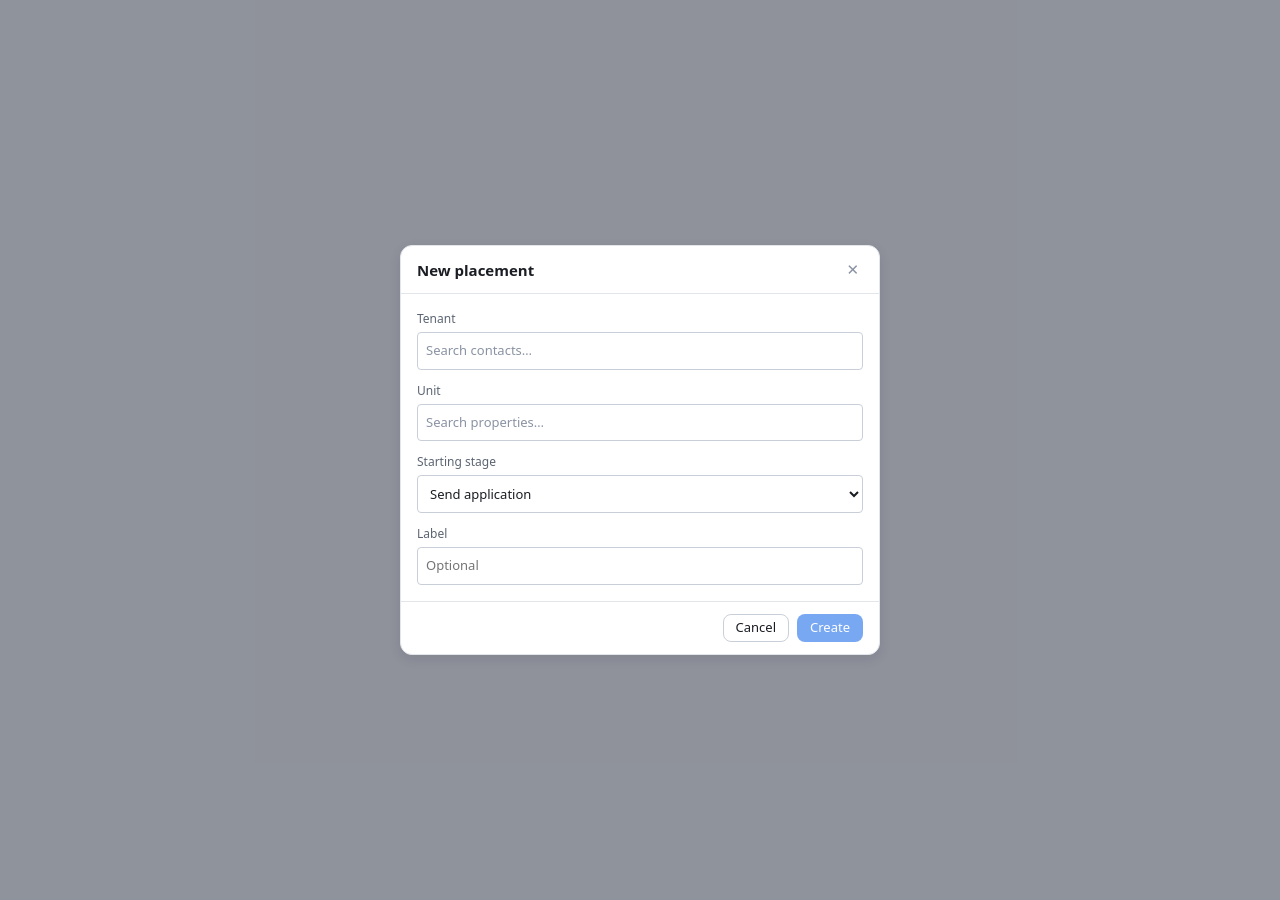
Test: PlacementCreateForm › Create is disabled until both a tenant and a unit are chosen
This screenshot has width=1280, height=900.
Check: the button "Create" is disabled, box x1=797 y1=614 x2=863 y2=642
In the dropdown named "Tenant": (640, 351) x1=417 y1=332 x2=863 y2=370, type "Tasha"
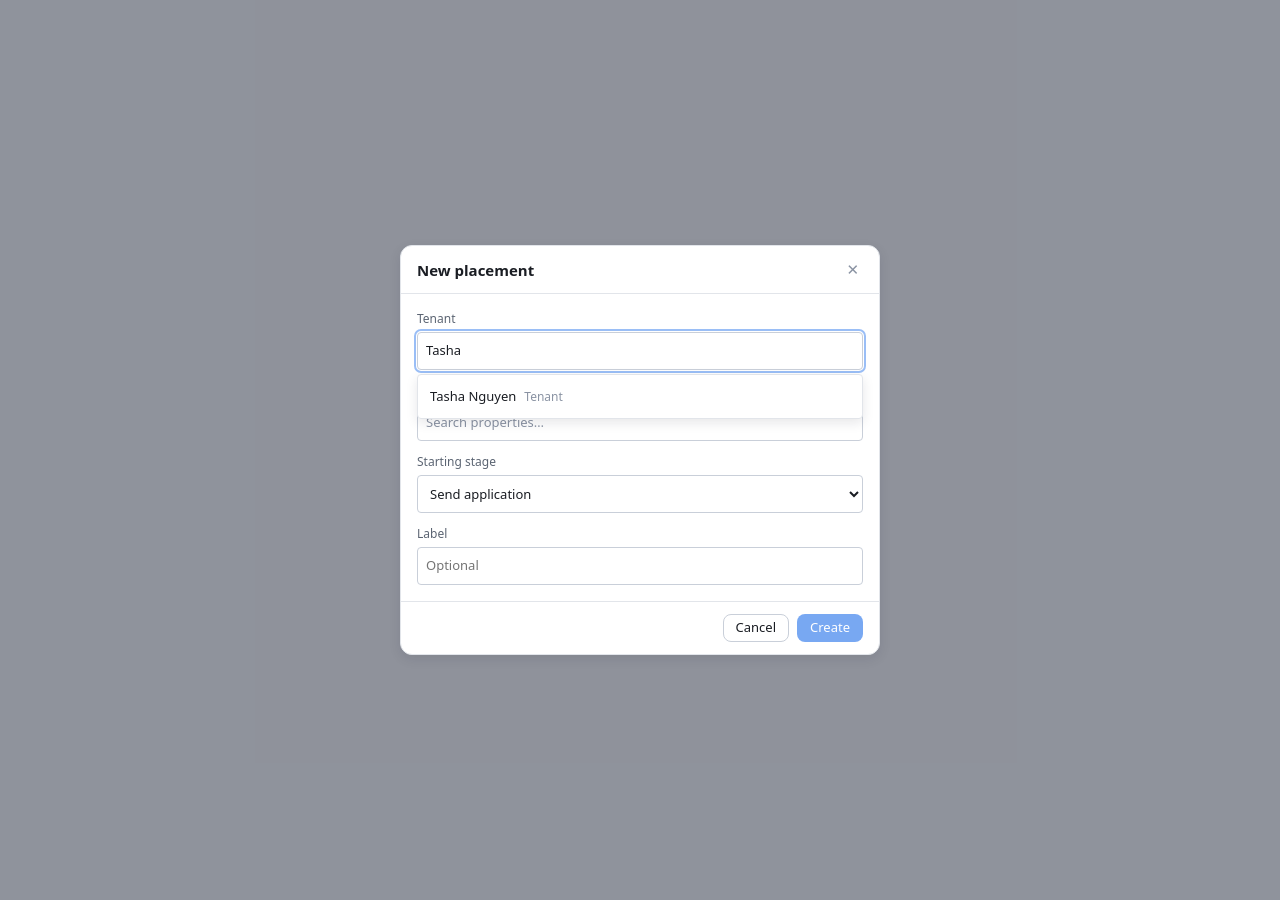
Click the option "Tasha Nguyen": (496, 396) x1=430 y1=387 x2=563 y2=405
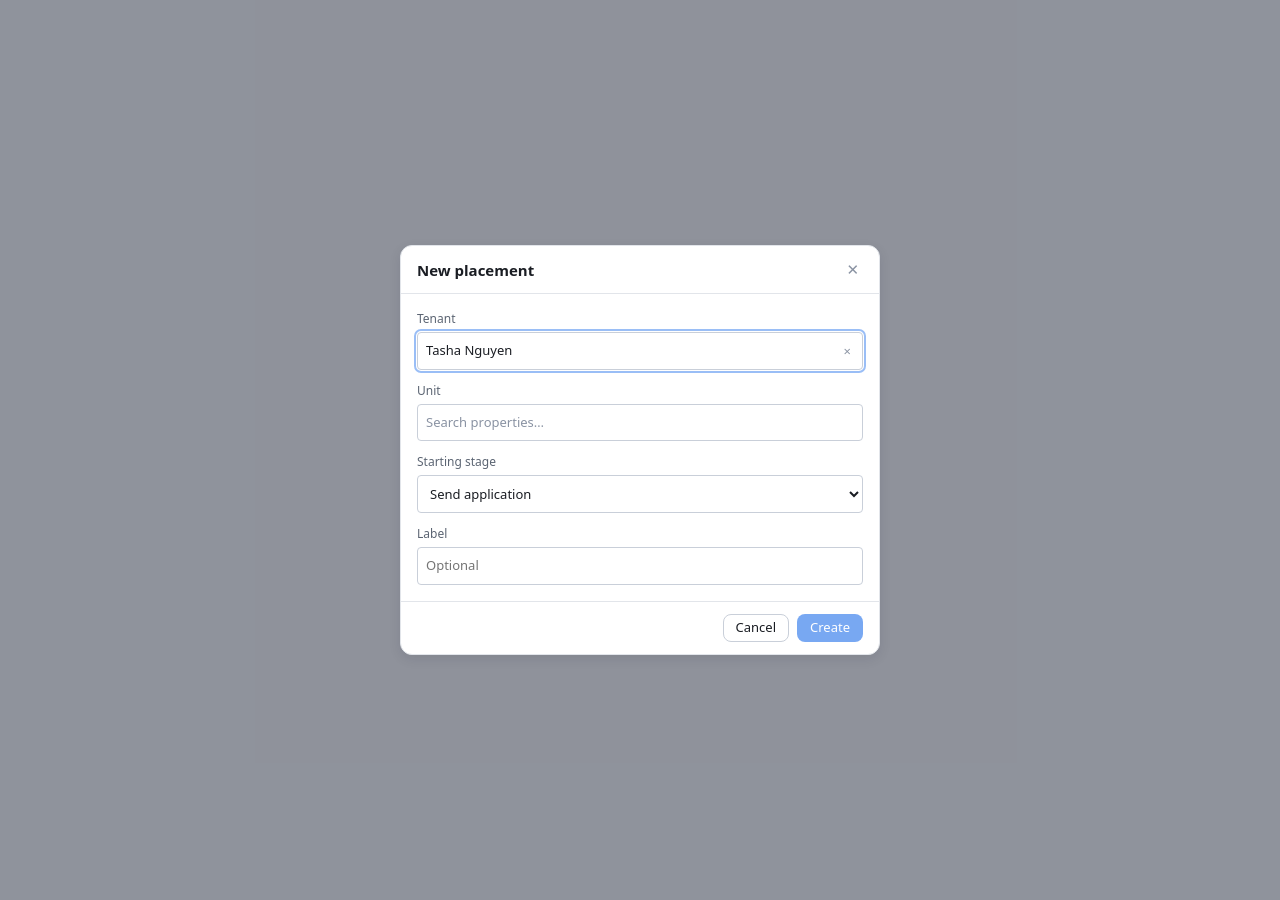
Check: the button "Create" is disabled, box x1=797 y1=614 x2=863 y2=642
In the dropdown named "Unit": (640, 423) x1=417 y1=404 x2=863 y2=441, type "Sycamore"
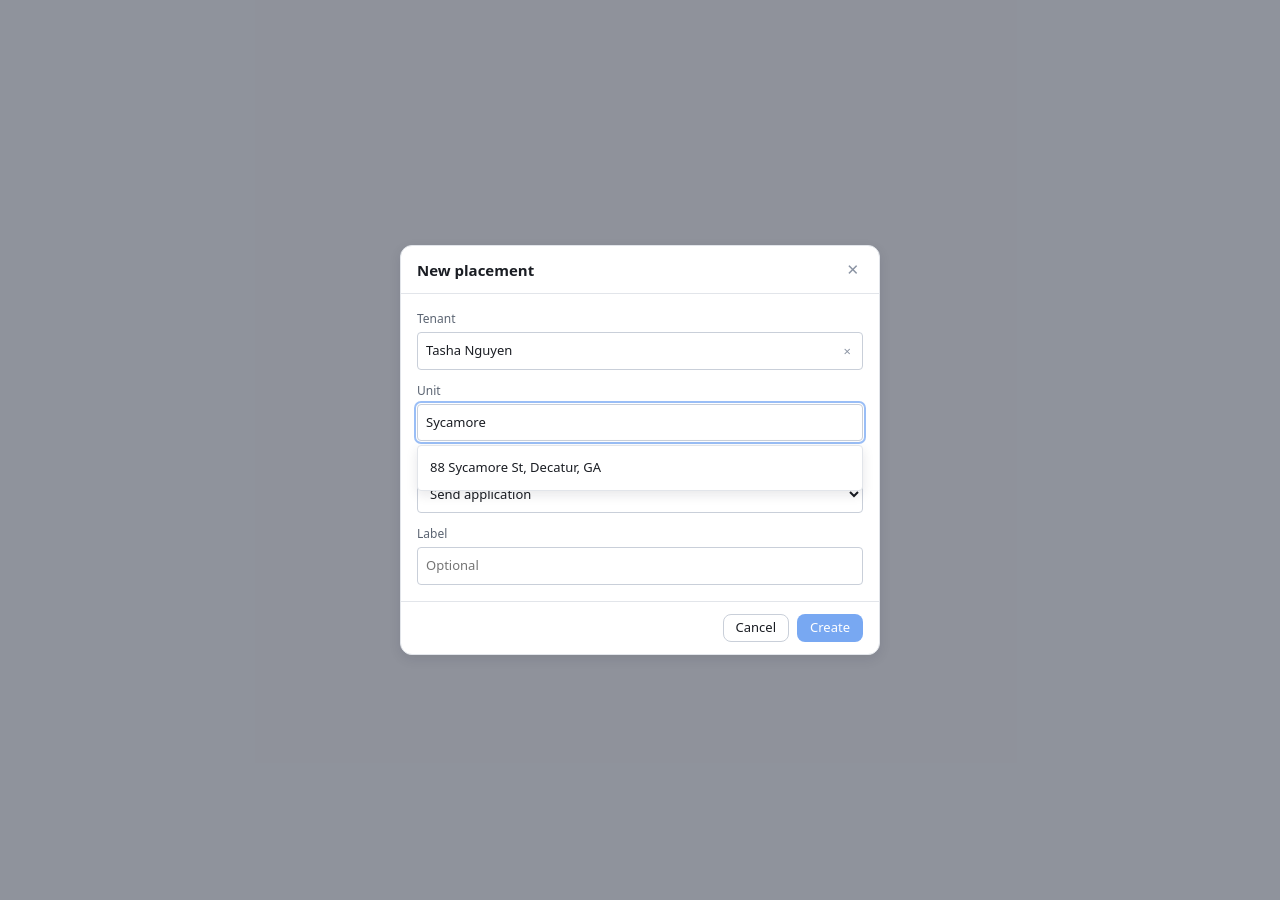
Click the option "88 Sycamore St, Decatur, GA": (516, 467) x1=430 y1=458 x2=601 y2=476
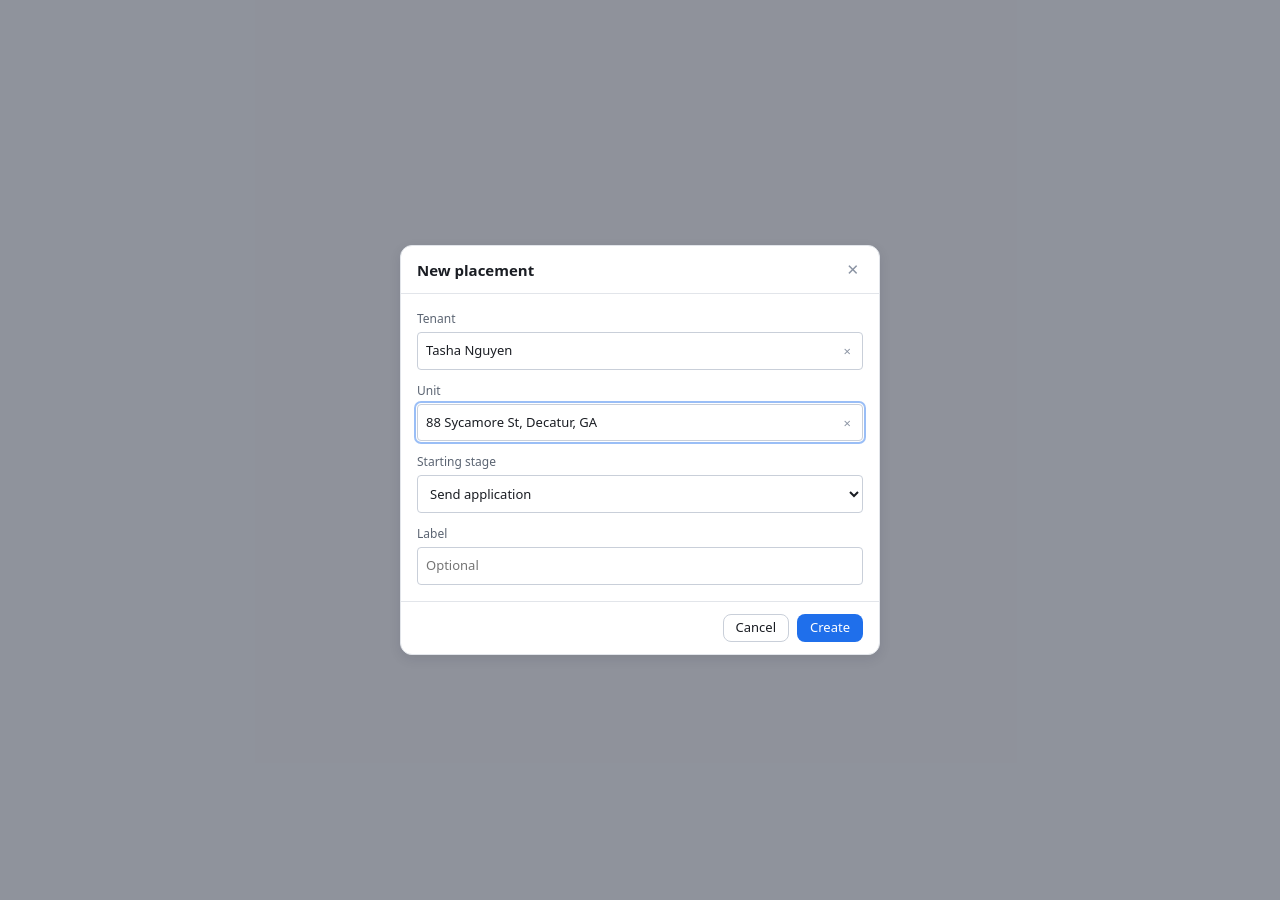
Check: the button "Create" is enabled, box x1=797 y1=614 x2=863 y2=642
